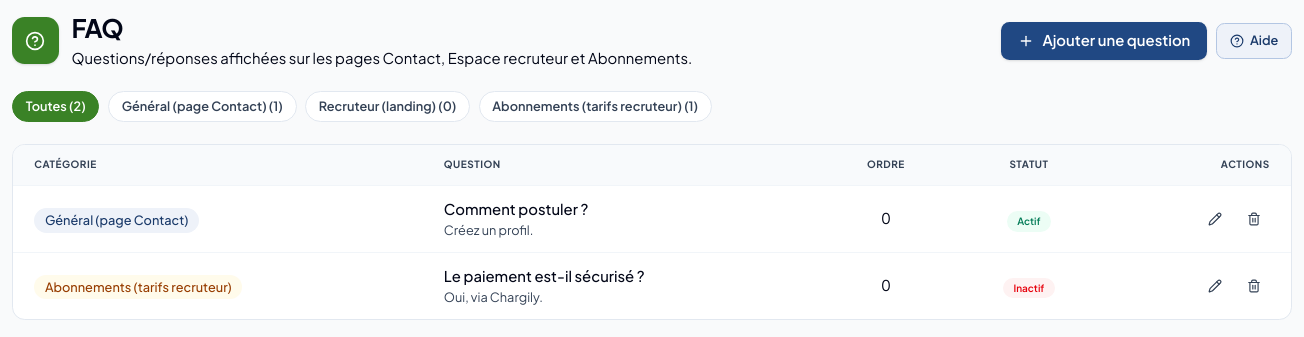
❓ UI & Logique - Composant <AdminFaq /> › 🟢 HP2 : Filtre par catégorie masque les autres questions
Expected: the text "Comment postuler ?" is shown, [444,200,588,218]
Click the button "Abonnements (tarifs recruteur) (1)": (595, 106) [478,91,712,122]
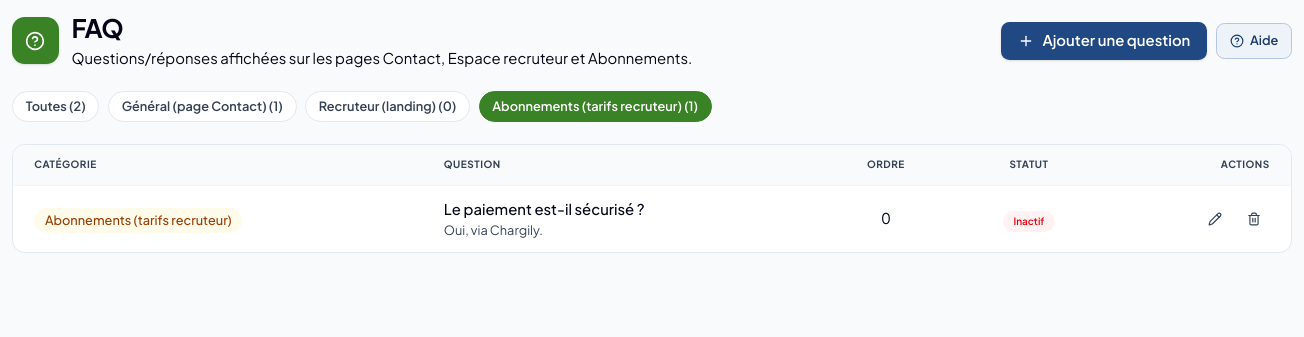
Expected: the text "Le paiement est-il sécurisé ?" is shown, [444,200,645,218]
Result: the text "Comment postuler ?" is gone
